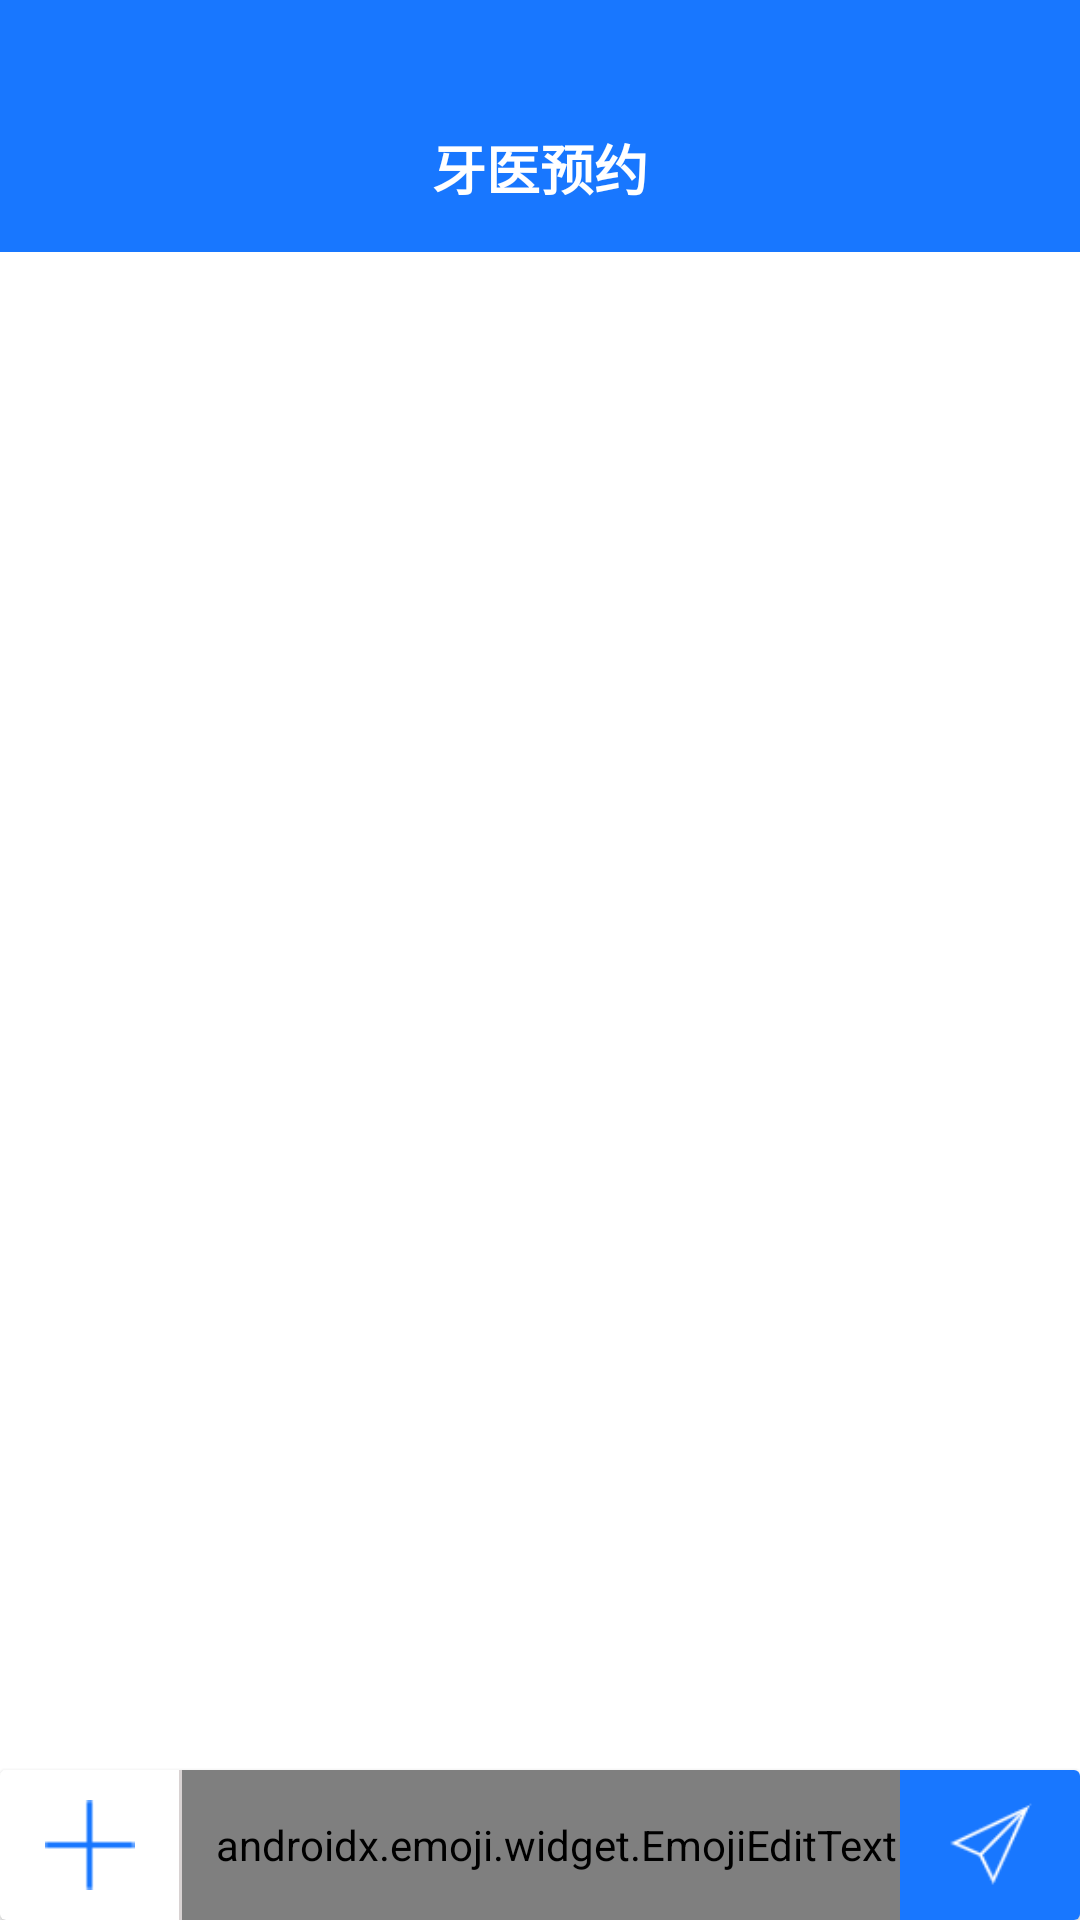

Where to tap for icons on this 1080 x 1920 app screen, as (x=x, y=y):
add: (x=67, y=1860)
send: (x=990, y=1845)
